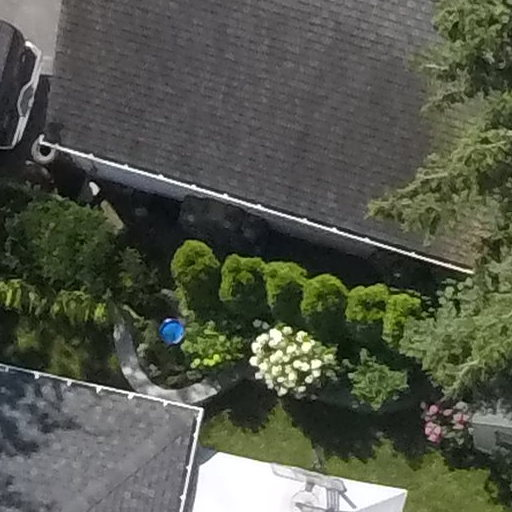container: (148, 313, 191, 351)
